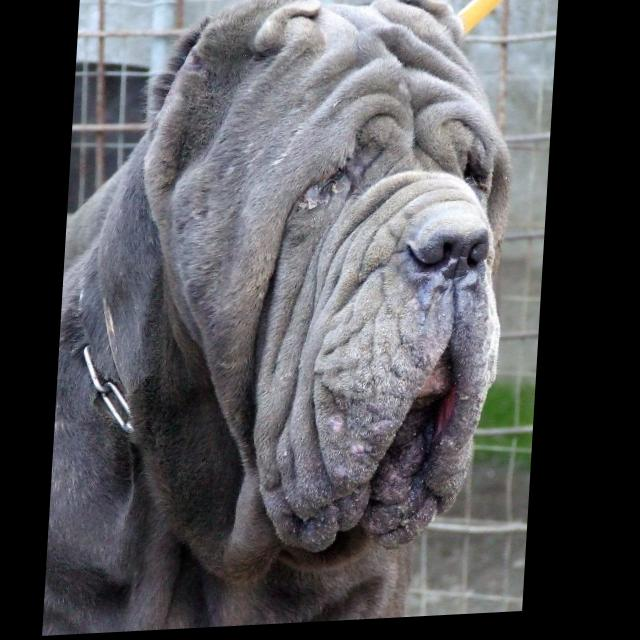mastino_napoletano: (51, 1, 527, 637)
